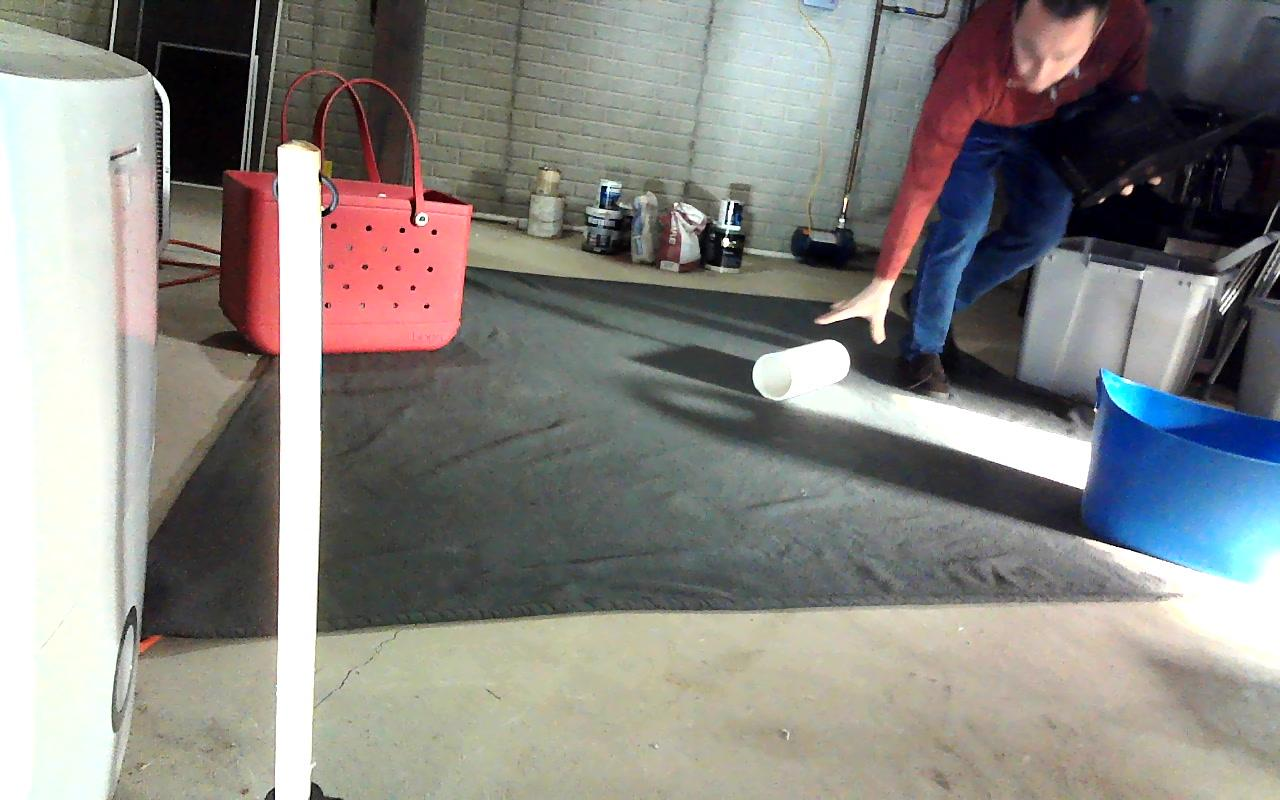coral: (752, 340, 849, 399)
